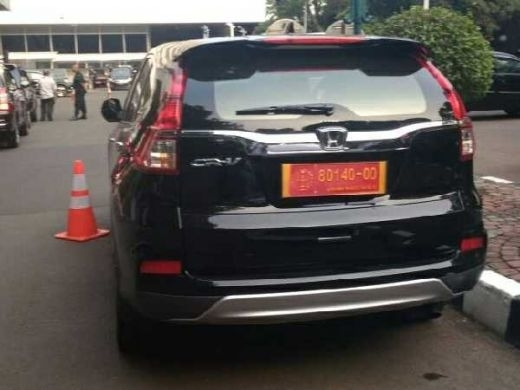plate: (283, 163, 388, 197)
